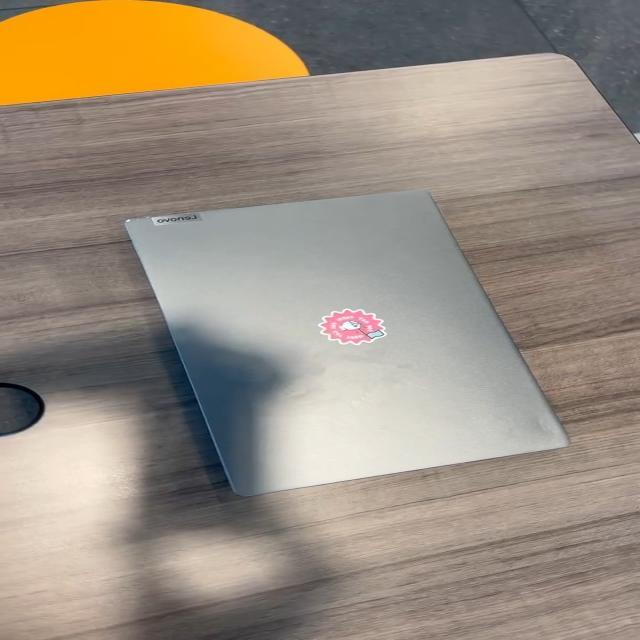laptop: (123, 187, 570, 497)
